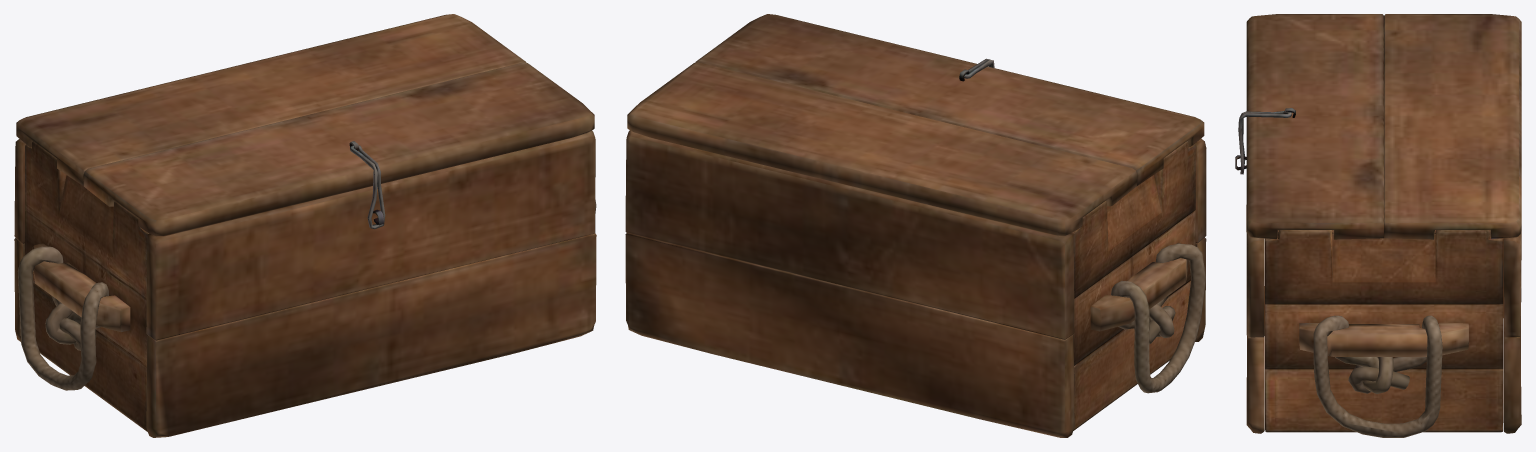
Rendered from caja-madera.glb.
3 views of the same model, side by side, from view 1: azimuth 30°, elevation 25°; view 2: azimuth 150°, elevation 25°; view 3: azimuth 270°, elevation 25° (orthographic). The views are drawn at different scales.
Visible parts, largest first — view 1: wooden_crate_01_lid; view 2: wooden_crate_01_lid; view 3: wooden_crate_01_lid.
Part boxes in pixels (bbox=[...]): wooden_crate_01_lid: bbox=[14, 14, 596, 437]; wooden_crate_01_lid: bbox=[625, 14, 1206, 437]; wooden_crate_01_lid: bbox=[1235, 14, 1521, 437].
Bounding box in the file's own units: 0.8245 × 0.3483 × 0.4072.
1 material, 1 textured.
